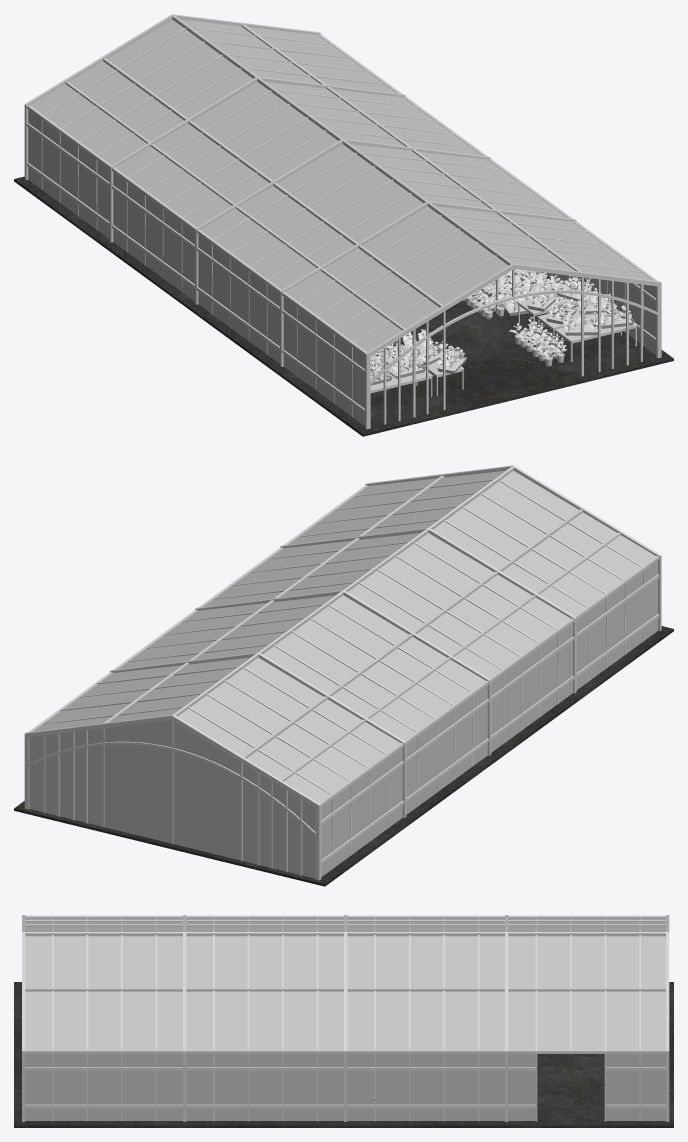
File: Greenhouse.fbx
3 views of the same model, one above another, from view 1: azimuth 30°, elevation 25°; view 2: azimuth 150°, elevation 25°; view 3: azimuth 270°, elevation 25° (orthographic). The views are drawn at different scales.
Visible parts, largest first — view 1: GreenHouseStructure, Floor, Pots_Large.014, Pots_Small.025, Pots_Large.071, Pots_Large.010, Pots_Large.013, Pots_Large.012, Pots_Large.034, Pots_Small.024; view 2: GreenHouseStructure, Floor; view 3: GreenHouseStructure, Floor.
Part boxes in pixels (bbox=[...]): GreenHouseStructure: bbox=[24, 14, 661, 429]; Floor: bbox=[14, 176, 673, 436]; Pots_Large.014: bbox=[481, 269, 565, 315]; Pots_Small.025: bbox=[508, 316, 566, 366]; Pots_Large.071: bbox=[402, 329, 466, 373]; Pots_Large.010: bbox=[563, 303, 634, 335]; Pots_Large.013: bbox=[527, 276, 594, 311]; Pots_Large.012: bbox=[545, 288, 611, 324]; Pots_Large.034: bbox=[370, 350, 425, 385]; Pots_Small.024: bbox=[462, 285, 510, 319]; GreenHouseStructure: bbox=[24, 465, 661, 880]; Floor: bbox=[14, 626, 673, 886]; GreenHouseStructure: bbox=[22, 915, 669, 1121]; Floor: bbox=[14, 982, 673, 1127].
Bounding box in the file's own units: 1688 × 680 × 3280.
